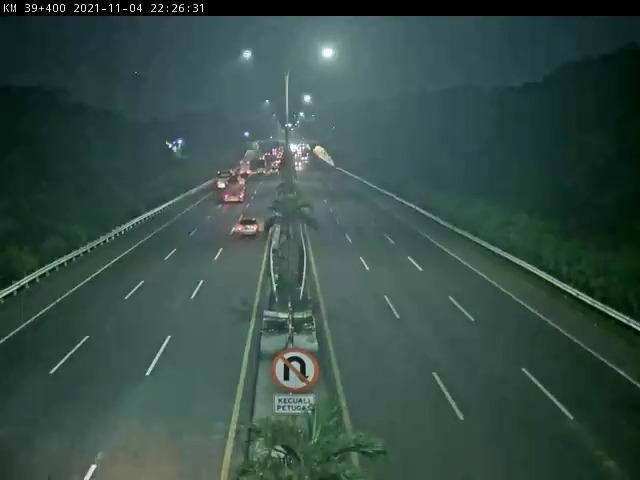bus: (215, 166, 240, 196)
car: (233, 213, 266, 258)
truck: (224, 176, 251, 206)
